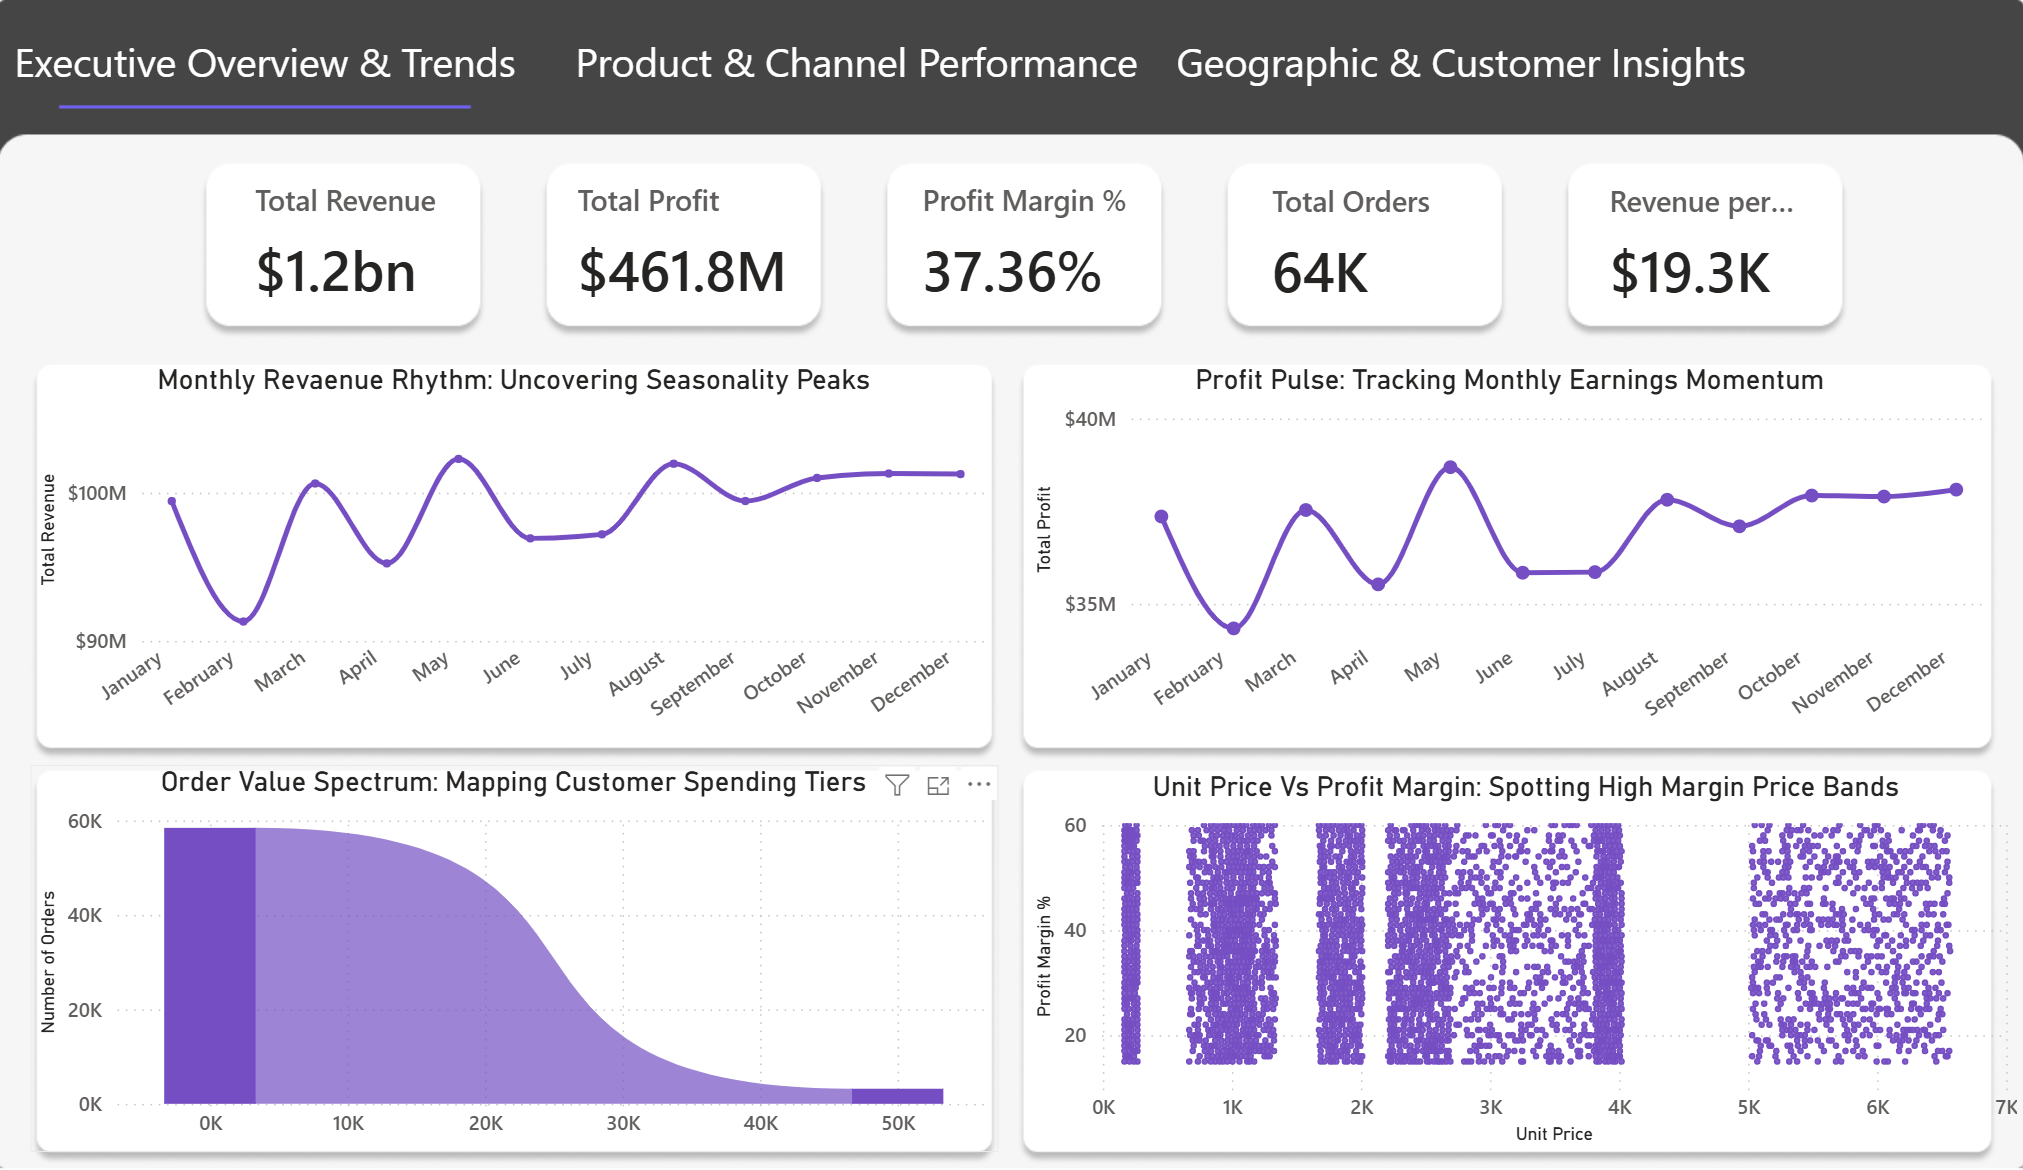

Layout of this report page (visuals, bound fields, positions):
{"tool":"powerbi","page":{"name":"Executive Overview & Trends","canvas":[1280,720],"ordinal":0},"visuals":[{"type":"image","box":[10.3,0,1240.7,719.6],"z":0},{"type":"cardVisual","fields":{"Data":["Sales_data.Total Revenue"]},"box":[155.1,97.2,158.2,104.4],"z":1000},{"type":"cardVisual","fields":{"Data":["Sales_data.Total Profit"]},"box":[350.5,97.2,163.4,104.4],"z":2000},{"type":"cardVisual","fields":{"Data":["Sales_data.Profit Margin %"]},"box":[560.4,97.2,158.2,104.4],"z":3000},{"type":"cardVisual","fields":{"Data":["Sales_data.Total Orders"]},"box":[772.3,98.2,158.2,104.4],"z":4000},{"type":"cardVisual","fields":{"Data":["Sales_data.Revenue per order"]},"box":[977.1,98.2,158.2,104.4],"z":5000},{"type":"ribbonChart","title":"Order Value Spectrum: Mapping Customer Spending Tiers","fields":{"Y":["Sales_data.count of order number"],"Category":["Sales_data.OrderValue (bins)"]},"box":[35.9,469.6,586.7,235.4],"z":6000},{"type":"lineChart","title":"Monthly Revaenue Rhythm: Uncovering Seasonality Peaks","fields":{"Category":["Sales_data.order_month_name"],"Y":["Sales_data.Total Revenue"]},"box":[35.9,226.1,586.7,235.4],"z":7000},{"type":"lineChart","title":"Profit Pulse: Tracking Monthly Earnings Momentum","fields":{"Category":["Sales_data.order_month_name"],"Y":["Sales_data.Total Profit"]},"box":[640,226.1,586.7,235.4],"z":8000},{"type":"scatterChart","title":"Unit Price Vs Profit Margin: Spotting High Margin Price Bands","fields":{"X":["Sales_data.unit_price"],"Y":["Sales_data.profit_margin_pct"]},"box":[640,473,606.4,231.9],"z":9000},{"type":"textbox","box":[0,20.5,355.6,60.2],"z":10000},{"type":"textbox","box":[355.6,20.5,363.8,60.2],"z":11000},{"type":"textbox","box":[719.3,20.5,369.2,60.2],"z":12000},{"type":"actionButton","box":[350.1,20.5,363.8,60.2],"z":13000},{"type":"actionButton","box":[713.8,20.5,388.4,60.2],"z":14000}]}

Visuals, with their boxes in screenshot pixels (x1, y1, x2, y2), scaled from the page's 1280x720 canvas onto the 2023x1170 screenshot:
image: 16/0/1977/1169
cardVisual - Sales_data.Total Revenue: 245/158/495/328
cardVisual - Sales_data.Total Profit: 554/158/812/328
cardVisual - Sales_data.Profit Margin %: 886/158/1136/328
cardVisual - Sales_data.Total Orders: 1221/160/1471/329
cardVisual - Sales_data.Revenue per order: 1544/160/1794/329
"Order Value Spectrum: Mapping Customer Spending Tiers" ribbonChart: 57/763/984/1146
"Monthly Revaenue Rhythm: Uncovering Seasonality Peaks" lineChart: 57/367/984/750
"Profit Pulse: Tracking Monthly Earnings Momentum" lineChart: 1012/367/1939/750
"Unit Price Vs Profit Margin: Spotting High Margin Price Bands" scatterChart: 1012/769/1970/1145
textbox: 0/33/562/131
textbox: 562/33/1137/131
textbox: 1137/33/1720/131
actionButton: 553/33/1128/131
actionButton: 1128/33/1742/131
